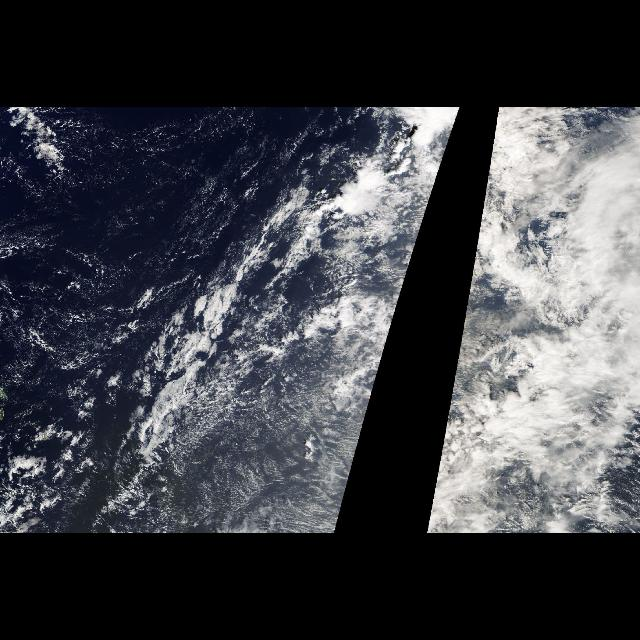Fish: (114, 110, 314, 532)
Gravel: (8, 120, 198, 508)
Sugar: (191, 357, 331, 528)
